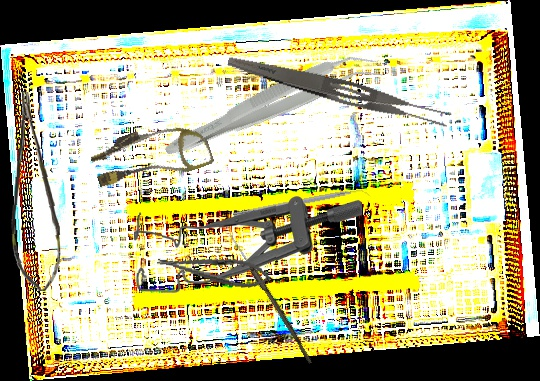Cannula: (87, 110, 215, 201)
Chopper: (233, 185, 371, 226)
Dressing Forceps: (224, 51, 452, 133)
Micro Scissor: (7, 91, 69, 292)
Needle Holder: (155, 246, 273, 293)
Speculum: (133, 193, 362, 297)
Surgical Spoon: (226, 232, 316, 365)
Tissue Forceps: (159, 40, 384, 173)
